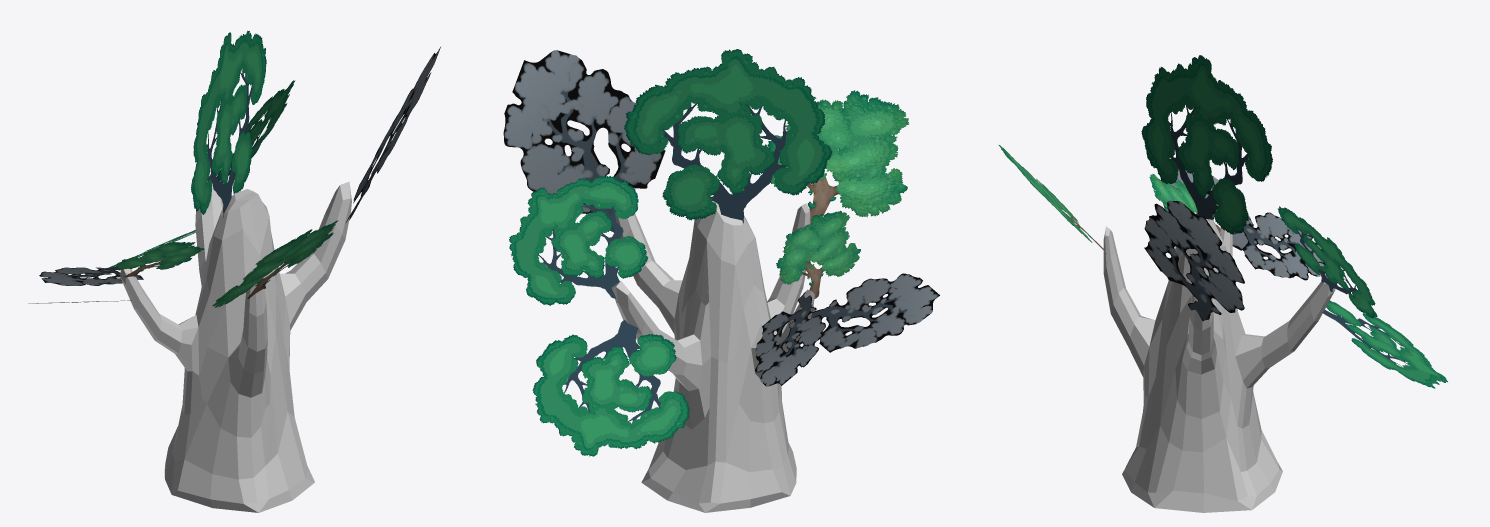
Rendered from treem2.1.fbx.
The picture shows the model from 3 angles, left to right: view 1: azimuth 30°, elevation 25°; view 2: azimuth 150°, elevation 25°; view 3: azimuth 270°, elevation 25°; orthographic projection. The views are drawn at different scales.
Parts seen in each view (by area): view 1: дерево111, листва верхушка, plk3.001, plk1.002, plk3, plk2.001, plk1; view 2: дерево111, листва верхушка, plk1.002, plk2, plk2.001, plk3.001, plk1.001, plk3, plk1; view 3: дерево111, листва верхушка, plk1.002, plk2, plk2.001, plk1, plk3, plk3.001.
Part boxes in pixels (x1,y1,x2,y2): дерево111: (120,181,351,512); листва верхушка: (191,30,266,217); plk3.001: (212,220,338,307); plk1.002: (346,47,440,222); plk3: (116,242,203,277); plk2.001: (217,80,295,181); plk1: (39,267,143,285); дерево111: (611,201,814,512); листва верхушка: (624,49,832,223); plk1.002: (503,50,665,232); plk2: (532,320,689,456); plk2.001: (509,176,648,305); plk3.001: (767,90,908,226); plk1.001: (811,273,939,352); plk3: (776,210,860,298); plk1: (755,291,825,386); дерево111: (1103,219,1335,512); листва верхушка: (1141,55,1272,234); plk1.002: (1144,200,1244,320); plk2: (1322,300,1447,388); plk2.001: (1278,206,1377,318); plk1: (1232,212,1325,280); plk3: (1149,174,1220,235); plk3.001: (999,145,1106,253).
Bounding box in the file's own units: 5955 × 6219 × 6084.
